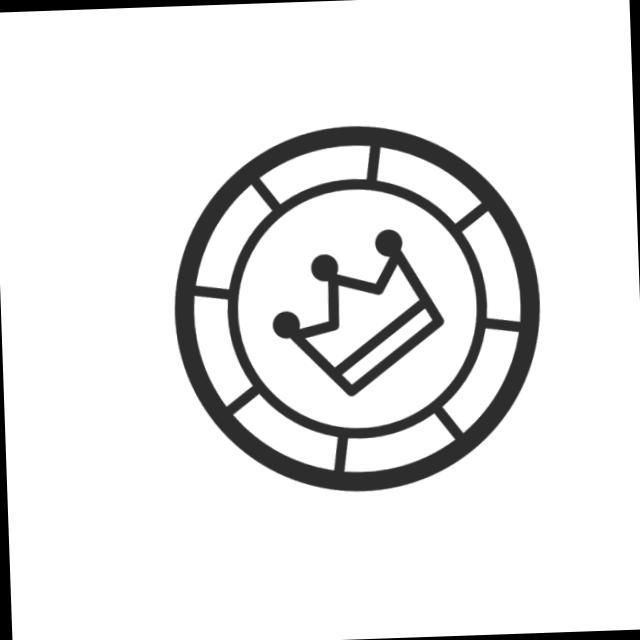coin: (161, 110, 552, 504)
